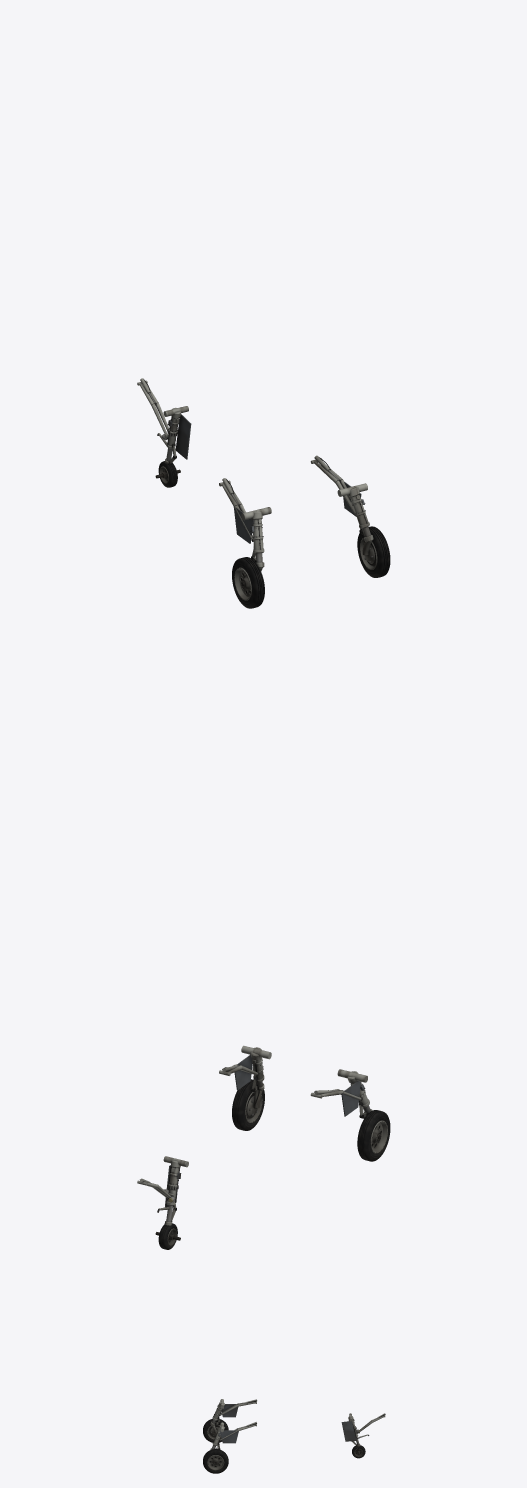
File: gripen_gear.glb
3 views of the same model, one above another, from view 1: azimuth 30°, elevation 25°; view 2: azimuth 150°, elevation 25°; view 3: azimuth 270°, elevation 25° (orthographic). The views are drawn at different scales.
Parts seen in each view (by area): view 1: gear_n, gear_w_l, gear_w_r, gear_m_l, gear_m_r; view 2: gear_w_l, gear_n, gear_m_r, gear_w_r, gear_m_l; view 3: gear_n, gear_w_r, gear_m_l, gear_m_r, gear_w_l.
Part boxes in pixels (x1,y1,x2,y2): gear_n: (155, 406, 191, 487); gear_w_l: (232, 557, 264, 608); gear_w_r: (357, 526, 390, 577); gear_m_l: (233, 507, 271, 571); gear_m_r: (337, 482, 373, 555); gear_w_l: (357, 1110, 390, 1161); gear_n: (155, 1156, 188, 1249); gear_m_r: (234, 1045, 271, 1108); gear_w_r: (232, 1079, 264, 1130); gear_m_l: (337, 1069, 372, 1118); gear_n: (341, 1413, 369, 1458); gear_w_r: (203, 1449, 228, 1473); gear_m_l: (210, 1399, 238, 1433); gear_m_r: (210, 1422, 238, 1449); gear_w_l: (203, 1418, 228, 1442).
Size of the model in its own units: 2.46 by 6.13 by 15.43.
Materials: 1 (1 with a texture image).
